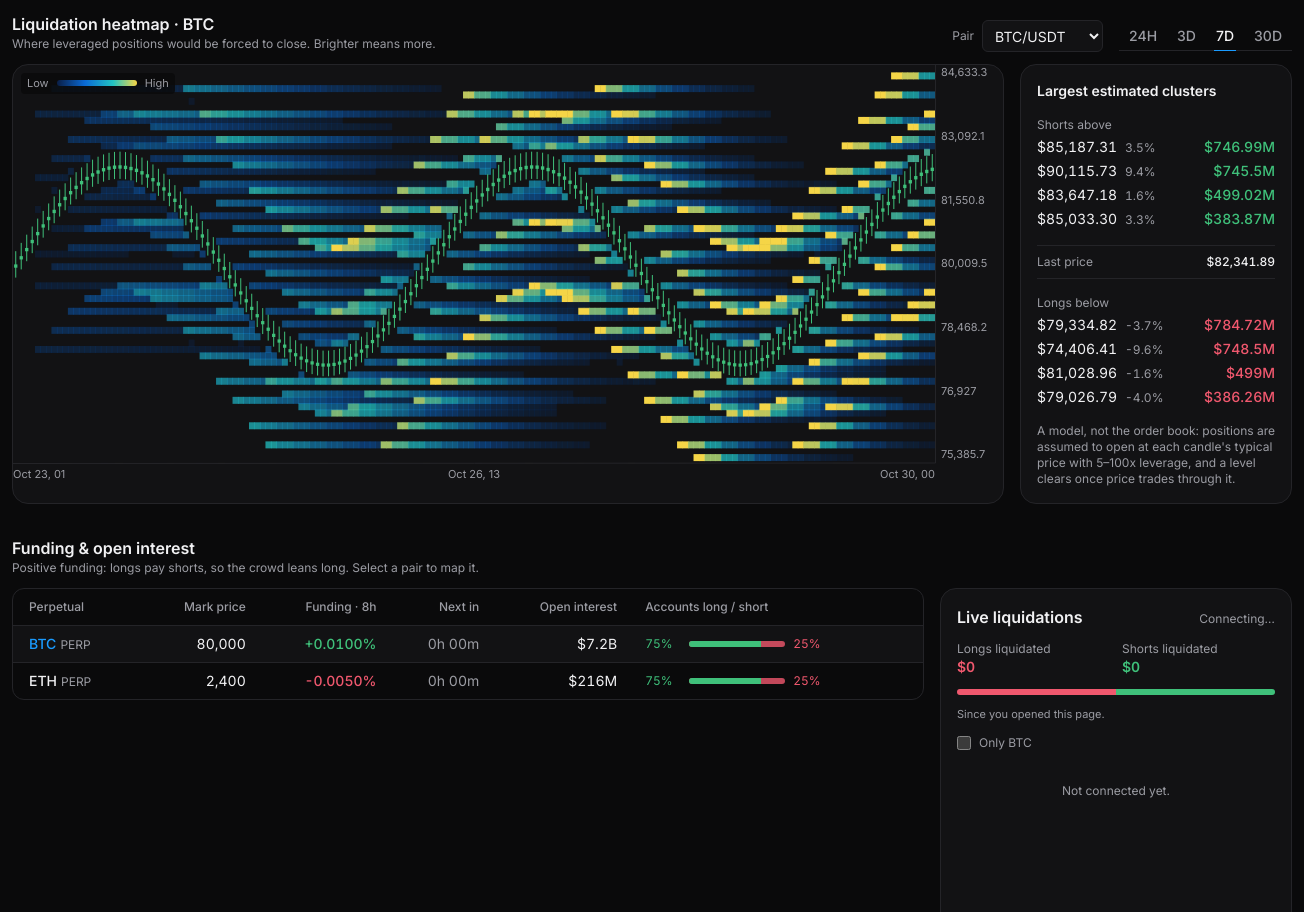
Scenario: DerivativesView › maps the pair chosen in the select or the funding table
Expected: the heading "Liquidation heatmap · BTC" is shown, [12, 14, 214, 34]
Select "SOL/USDT" in the dropdown labelled "Pair" at (1042, 36), box [982, 20, 1103, 52]
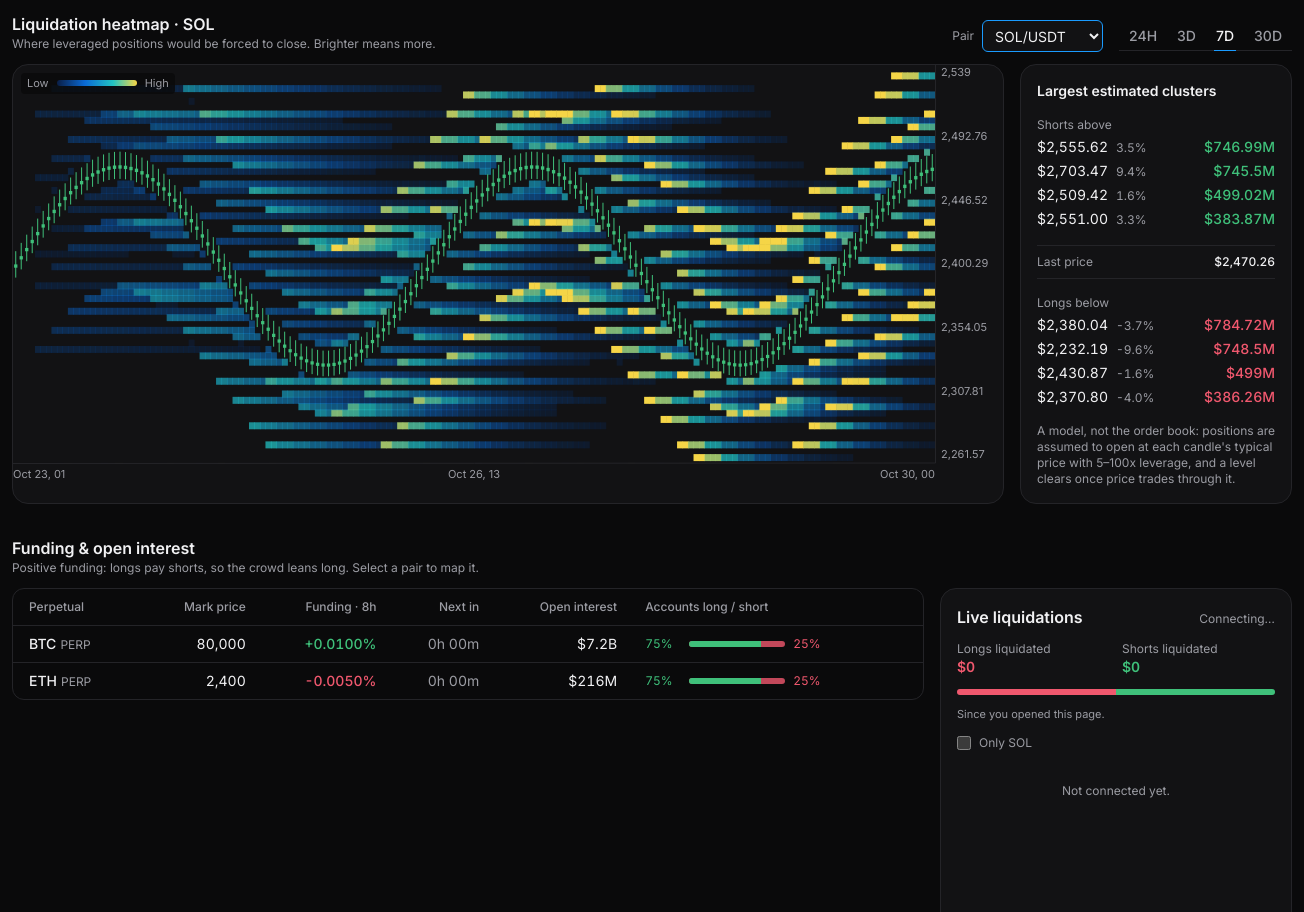
Result: the heading "Liquidation heatmap · SOL" is shown at [12, 14, 214, 34]
Click the radio button labelled "30D" at (1268, 36), box [1244, 22, 1292, 50]
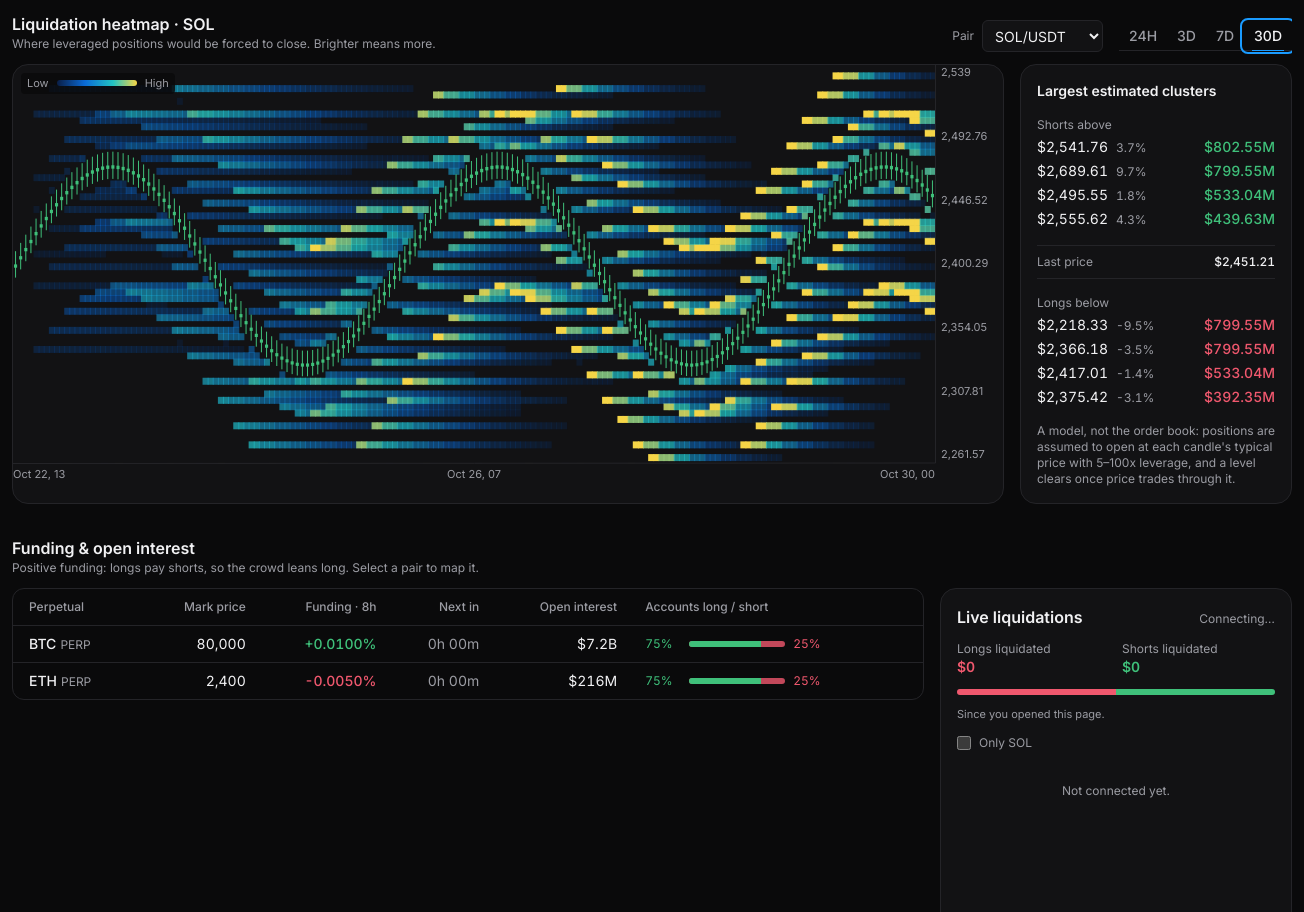
Result: the radio button labelled "30D" is checked at [1244, 22, 1292, 50]
Click the button "ETH" at (60, 681), box [29, 671, 91, 691]
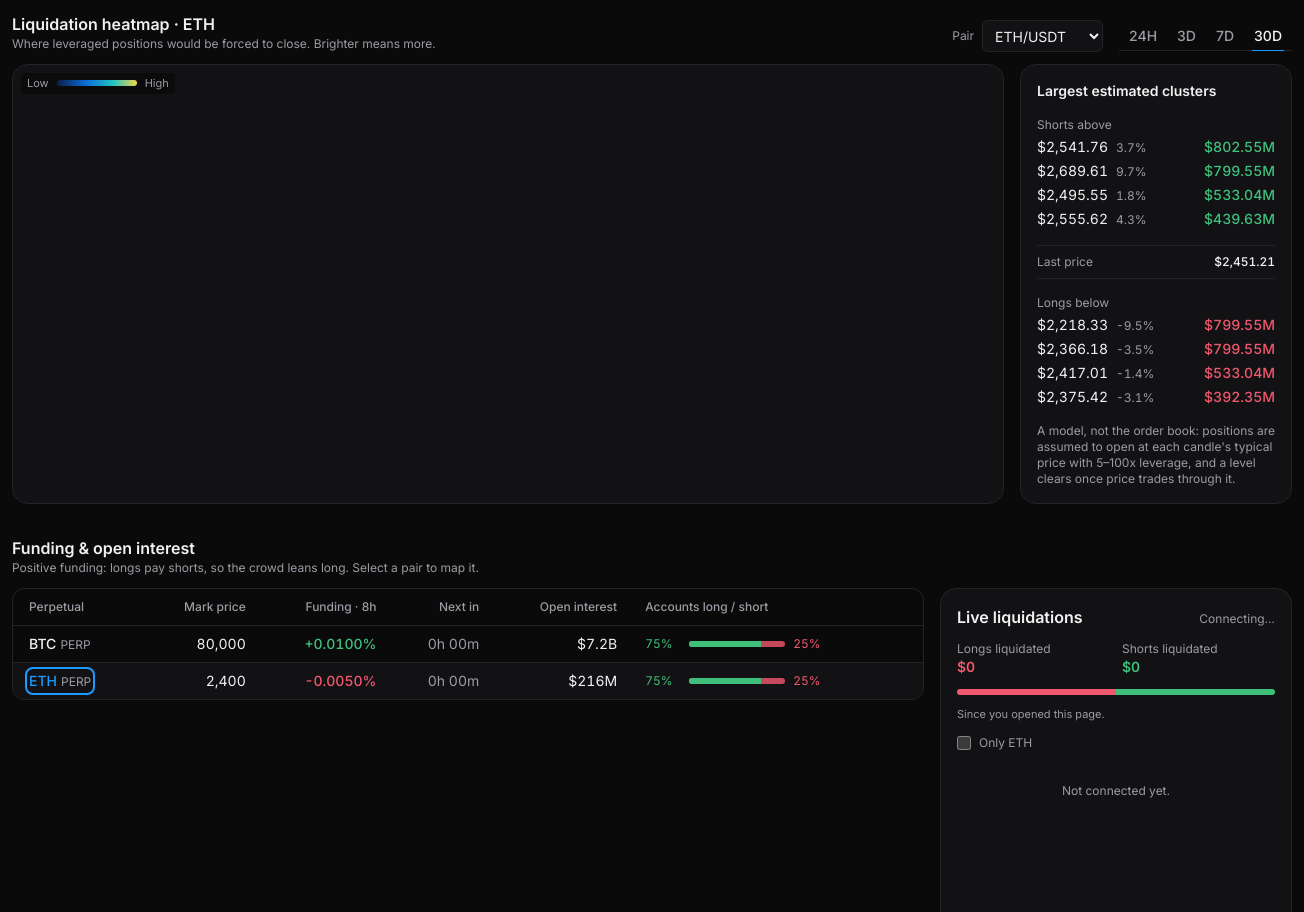
Result: the heading "Liquidation heatmap · ETH" is shown at [12, 14, 215, 34]
